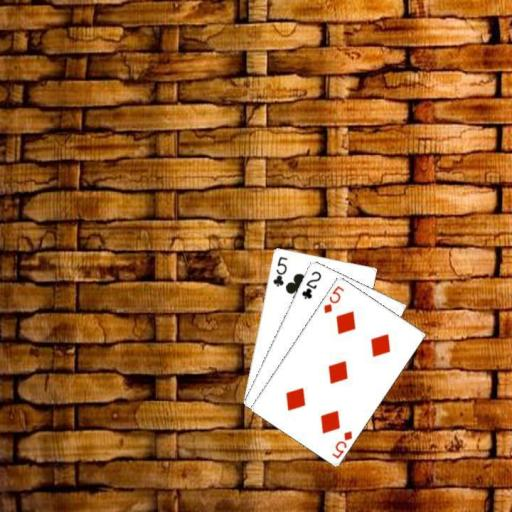card-corner: (328, 427, 354, 460), (320, 282, 346, 314), (299, 267, 323, 300), (270, 253, 288, 287)
